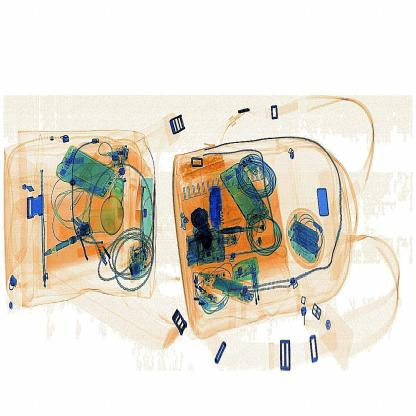scissors: (206, 176, 230, 234)
